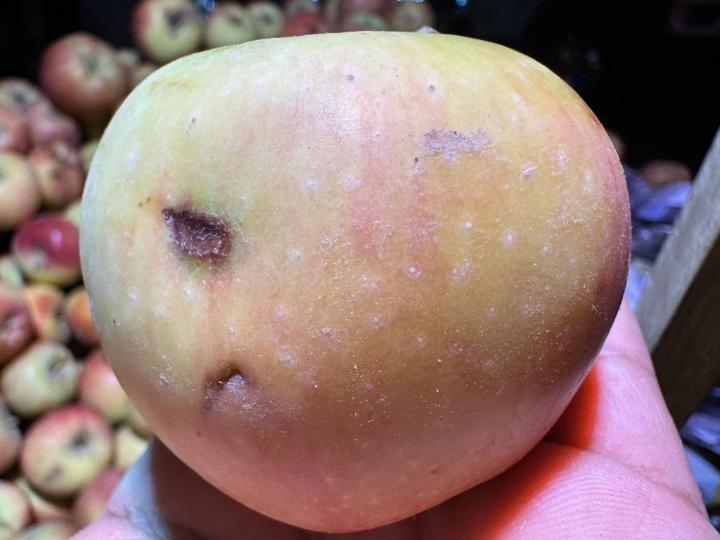apple: (80, 32, 631, 532)
surface_damage: (158, 201, 238, 272), (199, 361, 261, 413)
